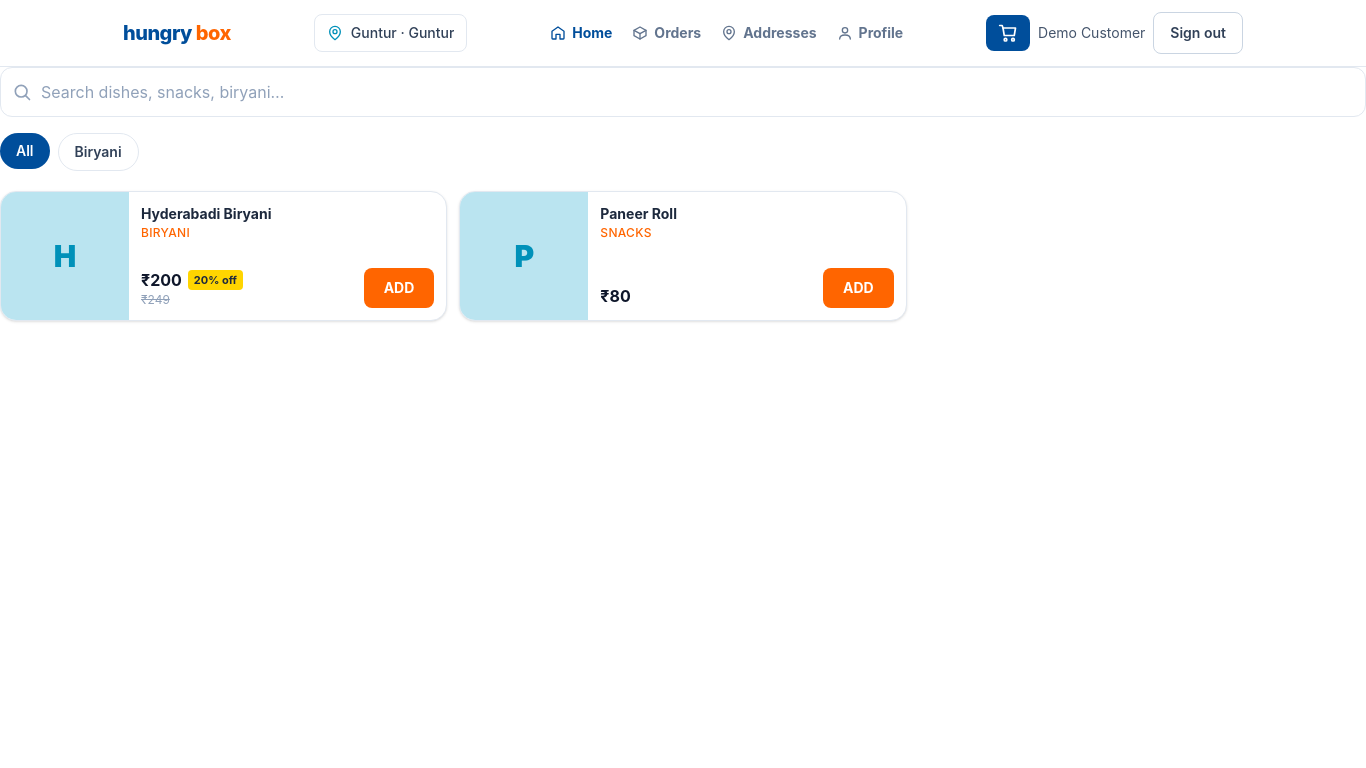
cart › adds an item and shows it in the cart sheet with server totals
This screenshot has width=1366, height=768.
Click the button with aria-label "Add Hyderabadi Biryani to cart" at (399, 288), box [364,268,434,308]
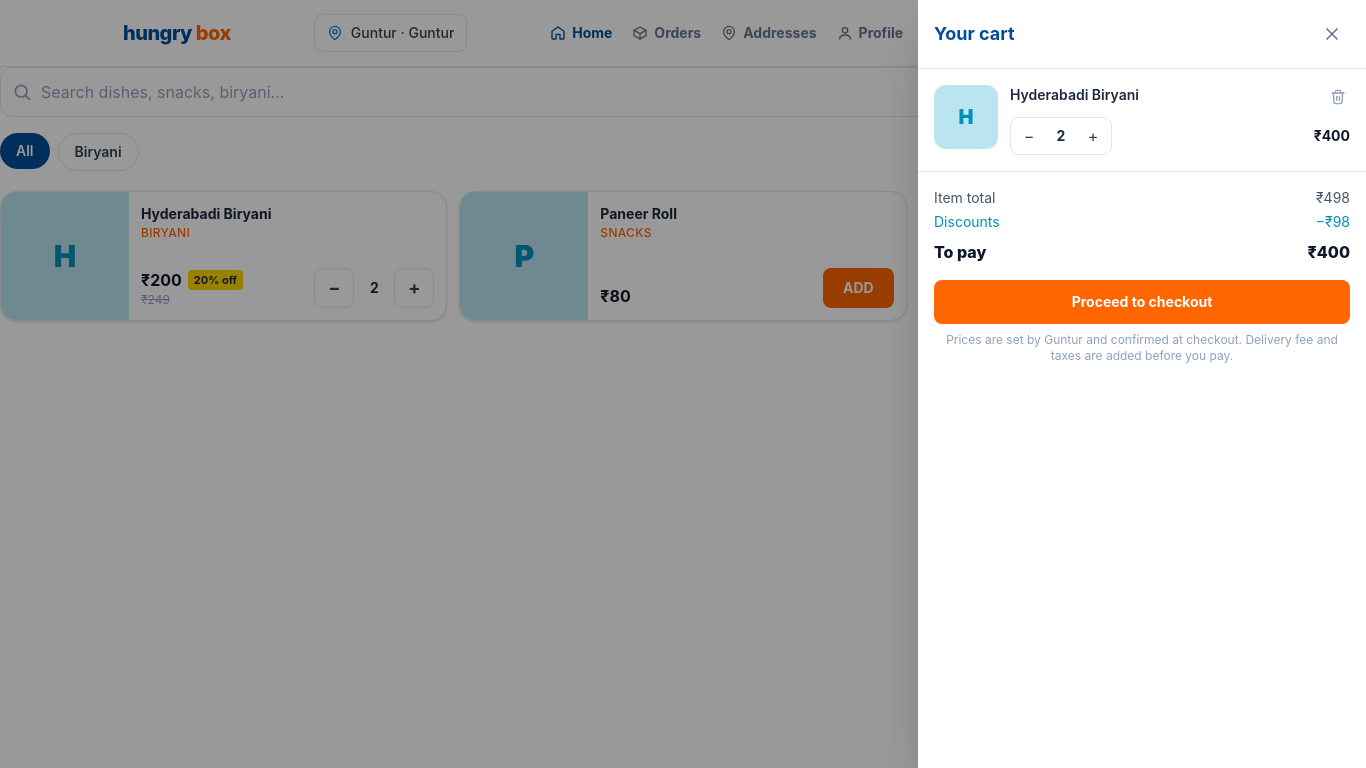
Expected: the heading "Hyderabadi Biryani" is shown, [1010,85,1139,105]
Expected: the 1st text "₹400" is shown, [1314,126,1350,146]
